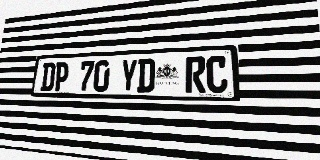0: (93, 60, 110, 92)
7: (78, 61, 95, 92)
C: (206, 55, 228, 93)
D: (137, 58, 155, 92), (40, 62, 56, 91)
P: (53, 62, 70, 91)
R: (185, 56, 206, 93)
Y: (119, 59, 138, 92)
